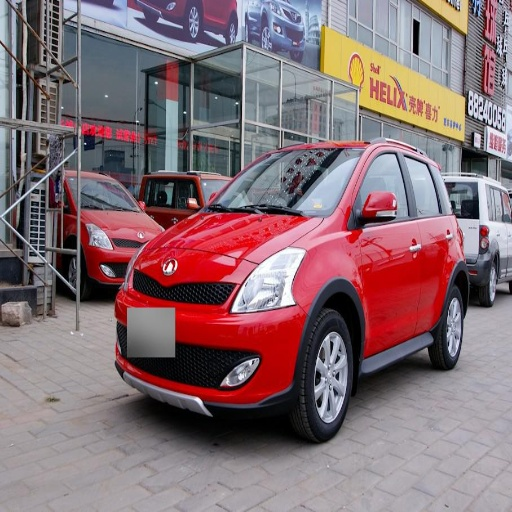back_left_door: (400, 148, 452, 329)
front_bumper: (117, 258, 309, 413)
front_glass: (208, 147, 360, 216)
front_left_door: (352, 145, 418, 353)
trunk: (451, 220, 489, 280)
